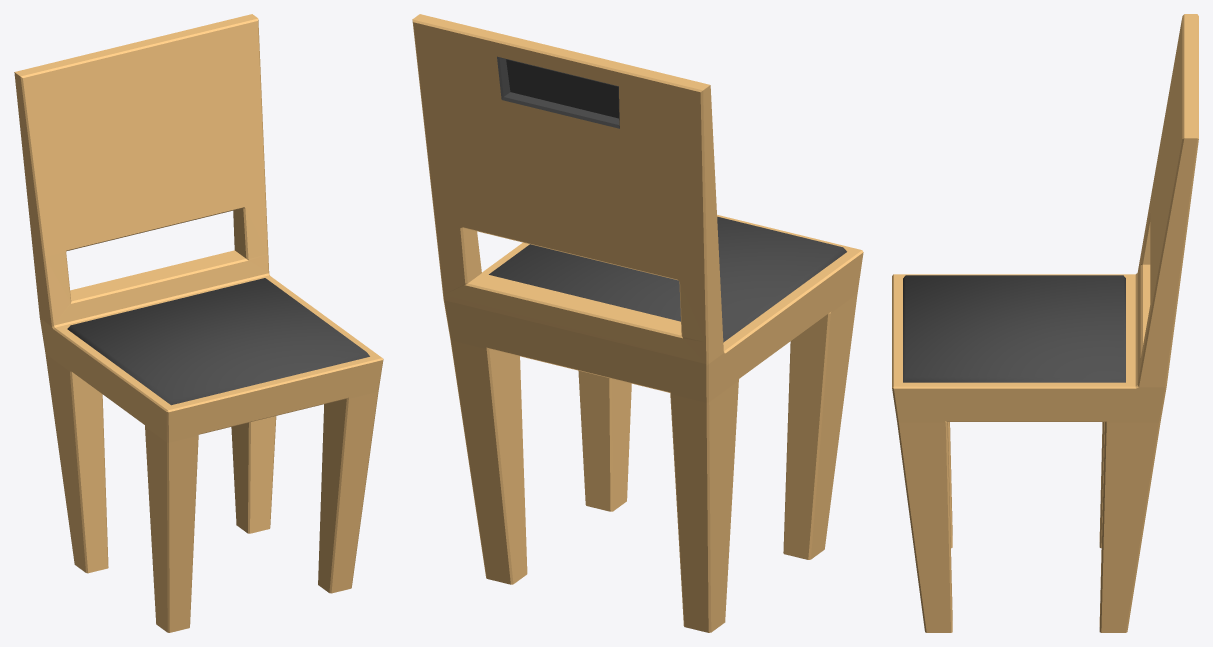
File: Chair_Ye_01.FBX
3 views of the same model, side by side, from view 1: azimuth 30°, elevation 25°; view 2: azimuth 150°, elevation 25°; view 3: azimuth 270°, elevation 25° (orthographic). The views are drawn at different scales.
Parts seen in each view (by area): view 1: Chair_Ye_01; view 2: Chair_Ye_01; view 3: Chair_Ye_01.
Part boxes in pixels (x1=…): Chair_Ye_01: x1=14, y1=14, x2=383, y2=632; Chair_Ye_01: x1=412, y1=14, x2=863, y2=632; Chair_Ye_01: x1=892, y1=14, x2=1198, y2=632.
Size of the model in its own units: 0.5255 by 1 by 0.548.
